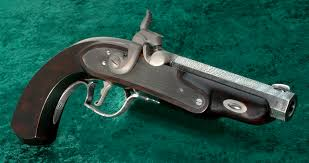gun: (10, 22, 297, 147)
